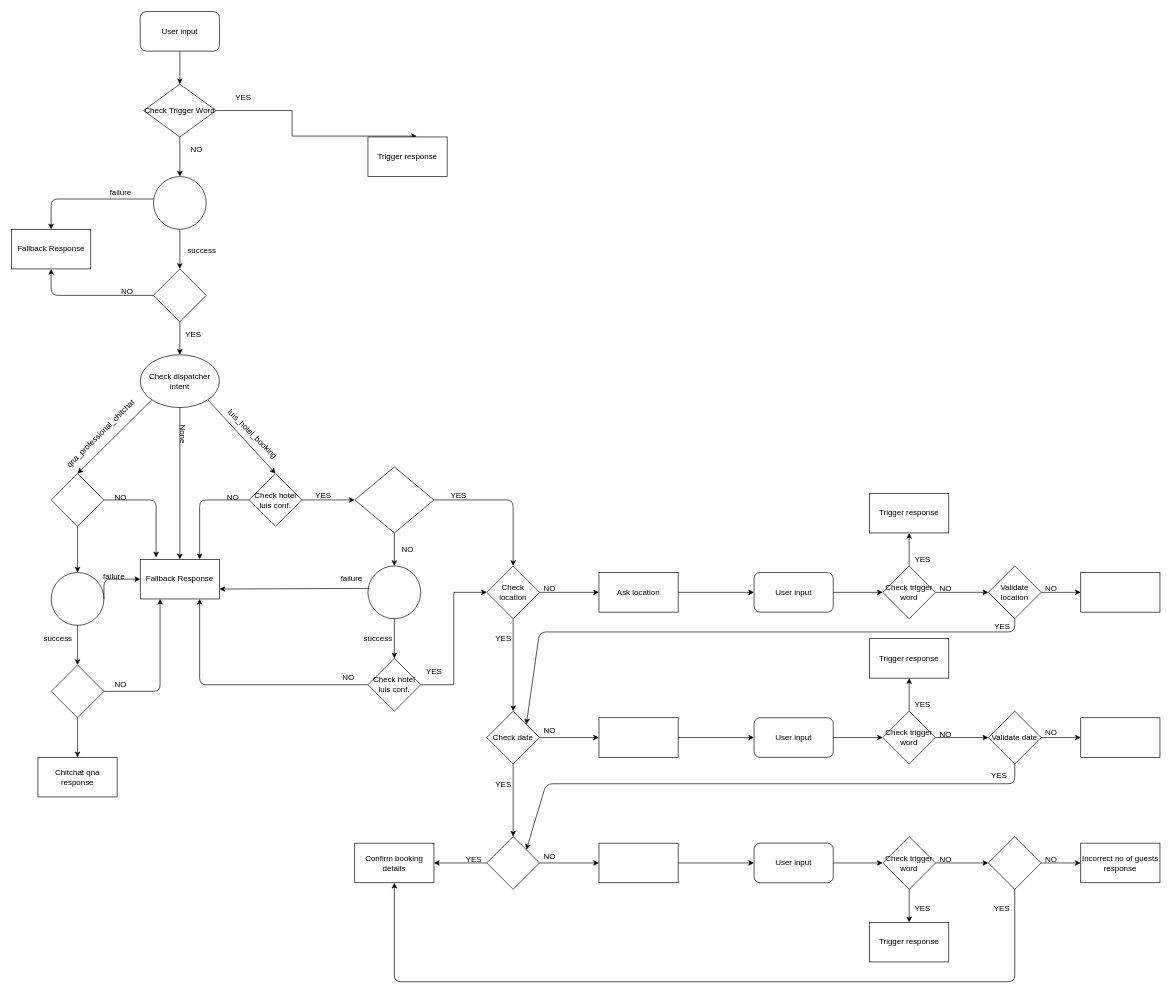
Some shapes in this 1172 by 999 pixel diagram are drawn without their labels. Here are the shapes that lost their labels. From the top down, the box of each, then its label:
(153, 176, 206, 229): Call dispatcher
(153, 268, 206, 322): Check dispatcher conf.
(50, 473, 104, 526): Check chitchat conf.
(354, 466, 434, 533): Check hotel luis connected intent and it's score
(50, 572, 104, 625): Call chaichat qna
(367, 565, 421, 619): Call hotel booking luis
(1080, 572, 1160, 612): Incorrect location response
(50, 664, 104, 718): Check chitchat qna conf.
(598, 717, 678, 757): Ask date
(1080, 717, 1160, 757): Incorrect date response
(486, 836, 540, 889): Check number of guests
(598, 842, 678, 883): Ask number of guests
(988, 836, 1041, 889): Validate no of guests
